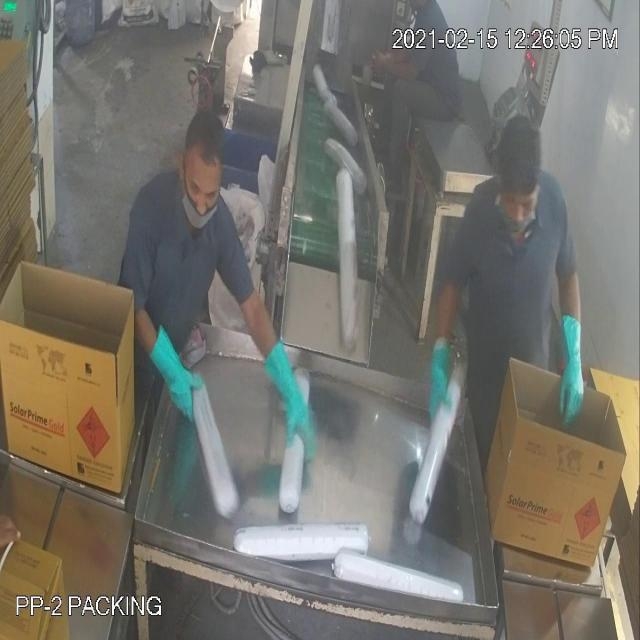Gloves: (36, 42, 574, 402)
